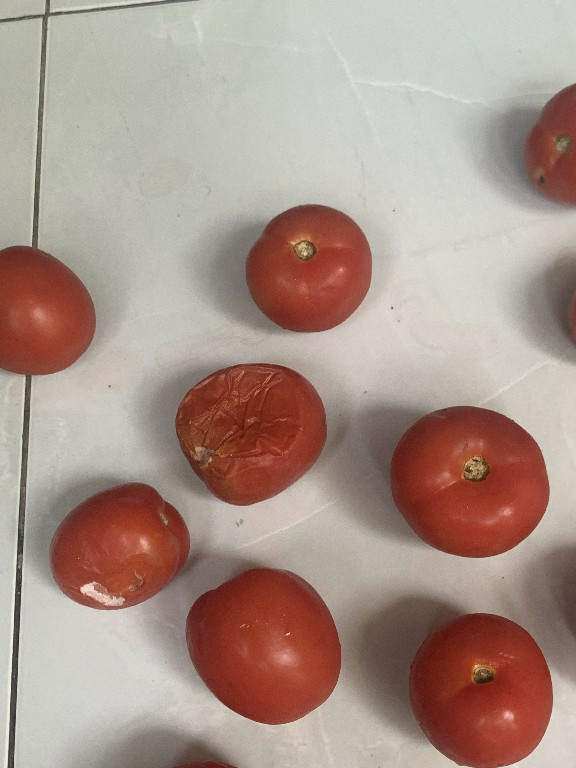NG: (166, 356, 338, 506), (42, 476, 194, 617)
OK: (378, 392, 557, 571), (181, 560, 349, 730), (409, 600, 566, 767), (236, 189, 374, 349), (0, 228, 106, 402)
